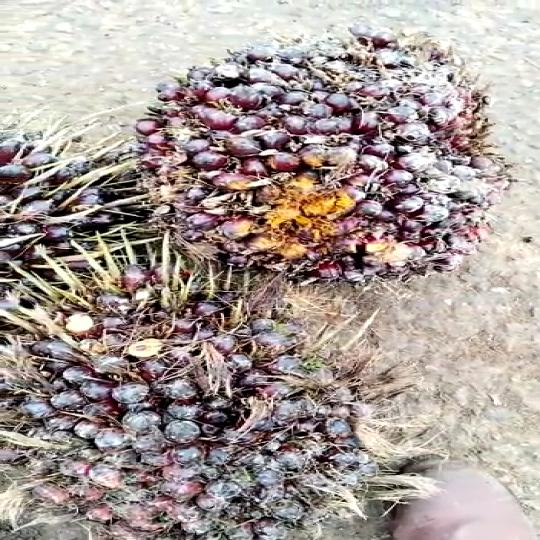kurang masak: (0, 270, 426, 540), (136, 19, 540, 285), (0, 130, 140, 290)
